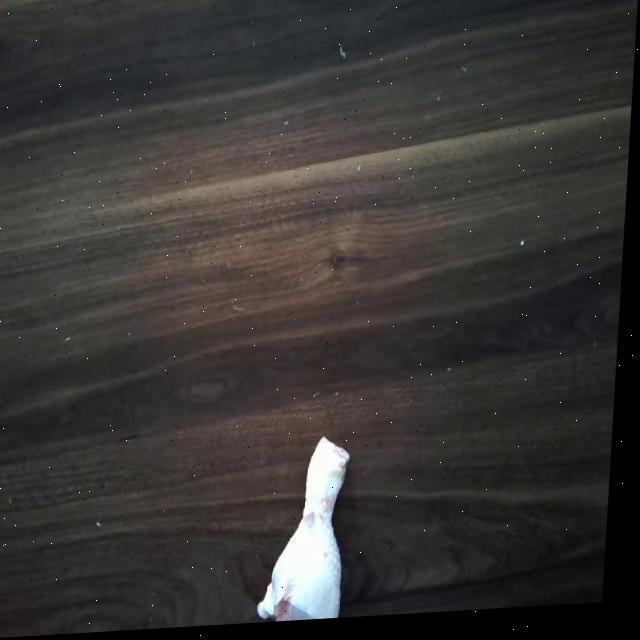leg: (272, 428, 366, 626)
